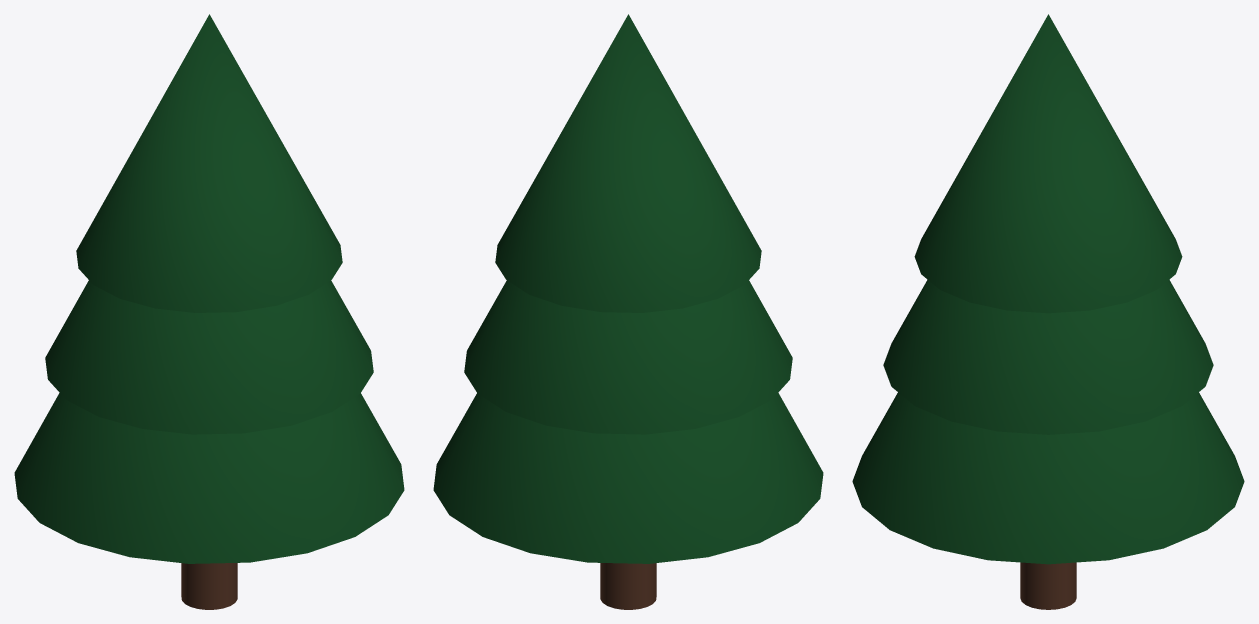
Rendered from tree2.fbx.
The picture shows the model from 3 angles, left to right: view 1: azimuth 30°, elevation 25°; view 2: azimuth 150°, elevation 25°; view 3: azimuth 270°, elevation 25°; orthographic projection.
Visible parts, largest first — view 1: tree2; view 2: tree2; view 3: tree2.
Boxes of the visible parts, x1=… form: tree2: x1=14, y1=14, x2=404, y2=609; tree2: x1=433, y1=14, x2=823, y2=609; tree2: x1=852, y1=14, x2=1244, y2=609.
Bounding box in the file's own units: 29.42 × 48.34 × 29.42.
